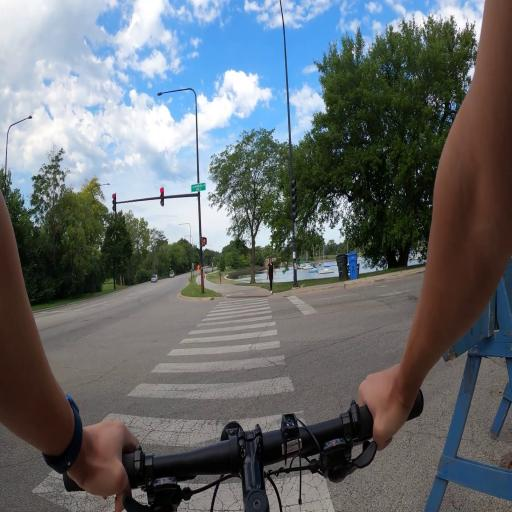Street_Light: (154, 86, 209, 301), (3, 110, 34, 184), (177, 218, 193, 249)
